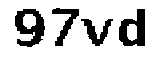7: (49, 5, 80, 52)
9: (13, 7, 47, 50)
d: (120, 7, 150, 49)
v: (80, 18, 113, 50)
